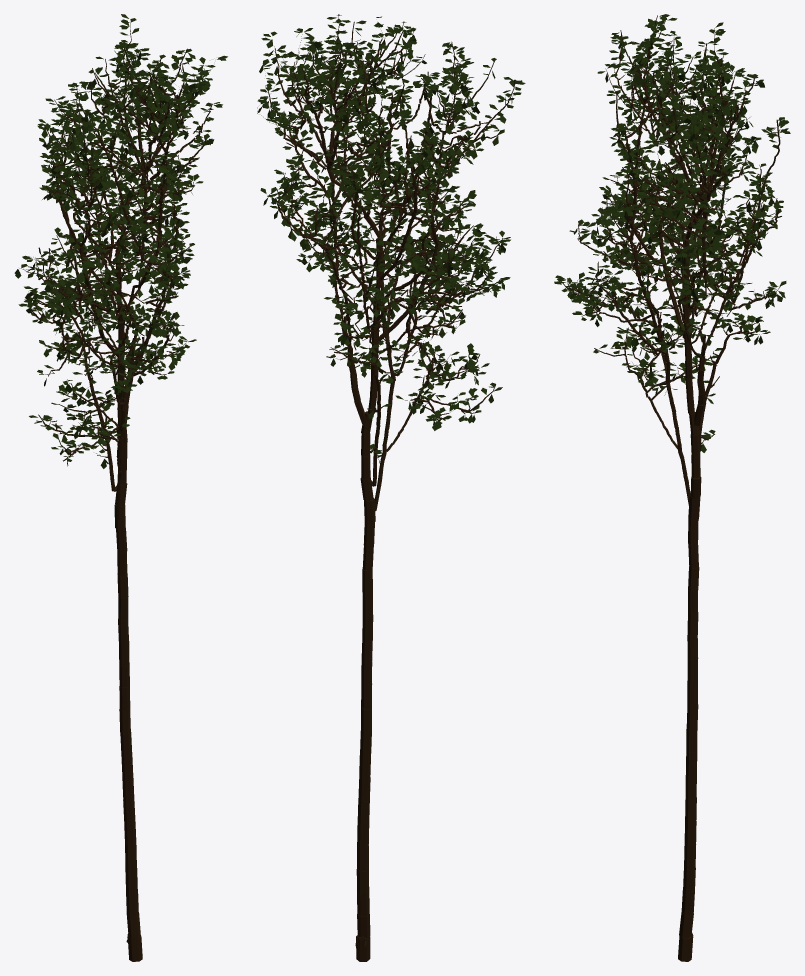
The model's file is tree_159.obj.
The picture shows the model from 3 angles, left to right: view 1: azimuth 30°, elevation 25°; view 2: azimuth 150°, elevation 25°; view 3: azimuth 270°, elevation 25°; orthographic projection. The views are drawn at different scales.
Parts seen in each view (by area): view 1: Leaves, TrunkAndBranches; view 2: Leaves, TrunkAndBranches; view 3: Leaves, TrunkAndBranches.
Boxes of the visible parts, bbox=[...] form: Leaves: bbox=[14, 14, 227, 468]; TrunkAndBranches: bbox=[19, 19, 212, 961]; Leaves: bbox=[257, 14, 525, 465]; TrunkAndBranches: bbox=[257, 14, 514, 961]; Leaves: bbox=[554, 14, 790, 452]; TrunkAndBranches: bbox=[560, 15, 780, 961].
Bounding box in the file's own units: 6.65 × 26.99 × 6.17.
